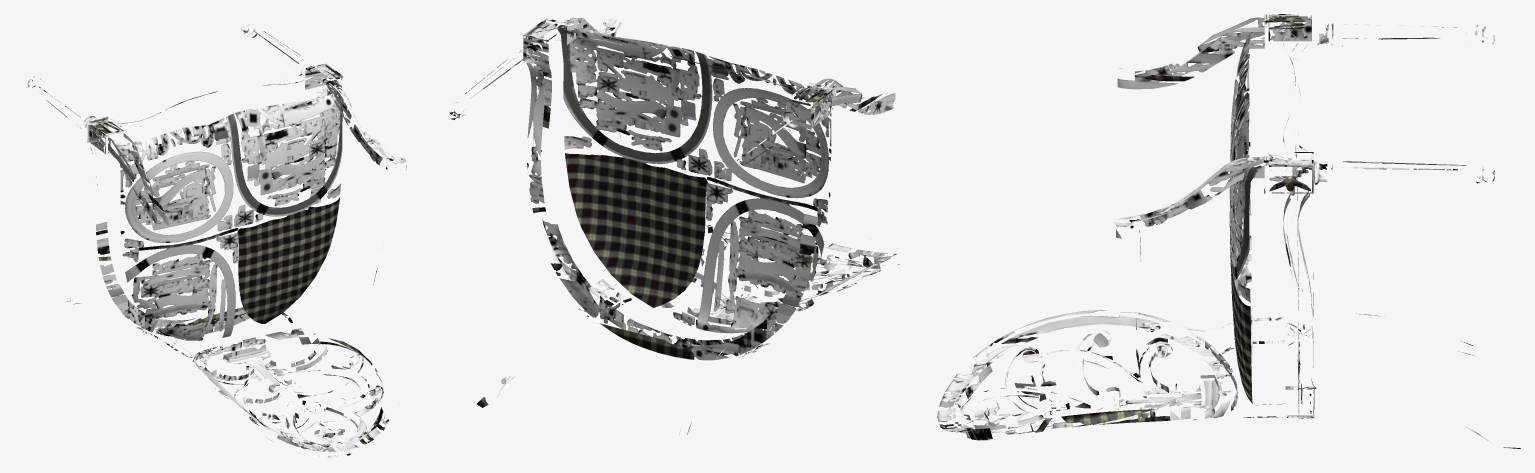
3 renders of one model, left to right at view 1: azimuth 30°, elevation 25°; view 2: azimuth 150°, elevation 25°; view 3: azimuth 270°, elevation 25°, orthographic. The views are drawn at different scales.
Size of the model in its own units: 0.599 by 0.605 by 0.9251.
